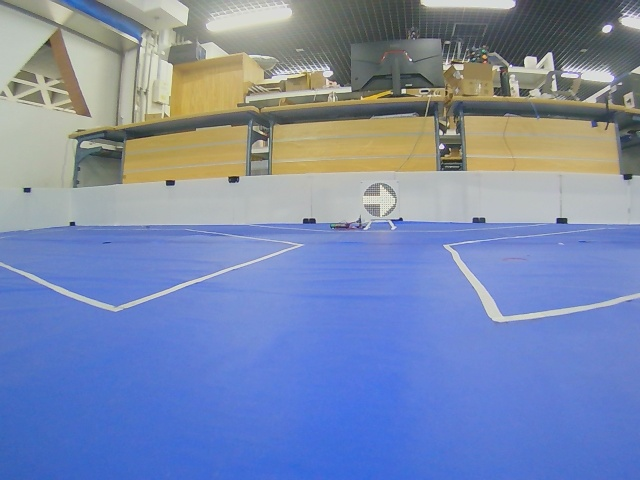right_yellow: (362, 182, 397, 218)
